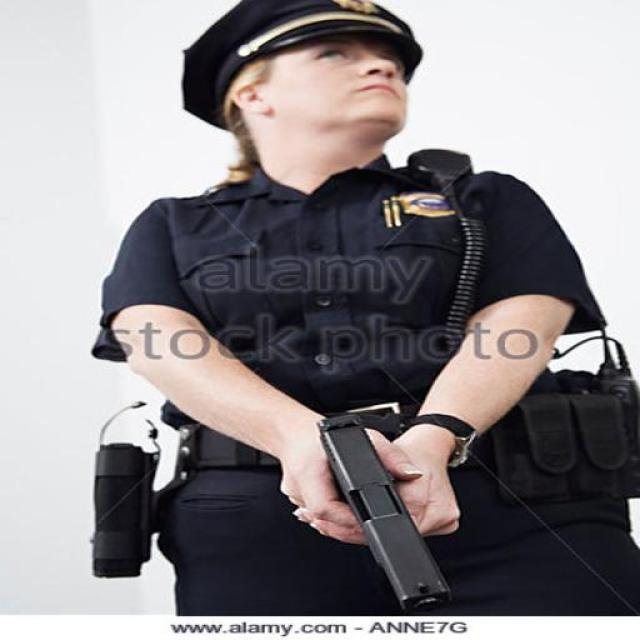pistol: (302, 415, 465, 615)
